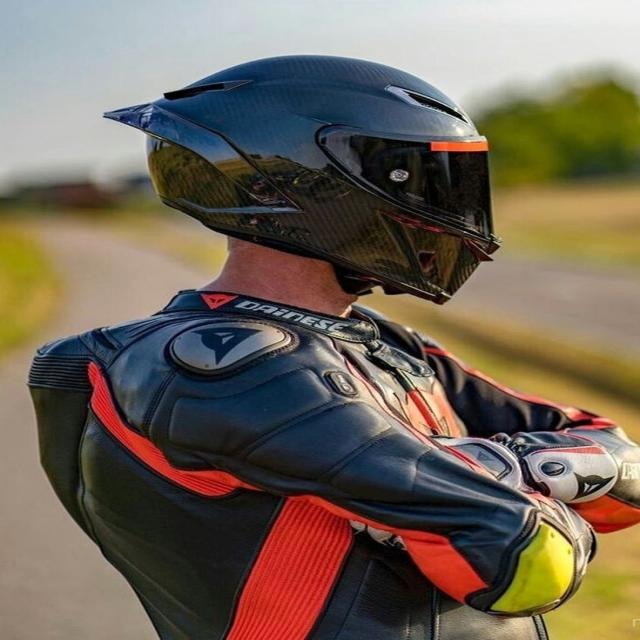Helm: (99, 50, 511, 309)
